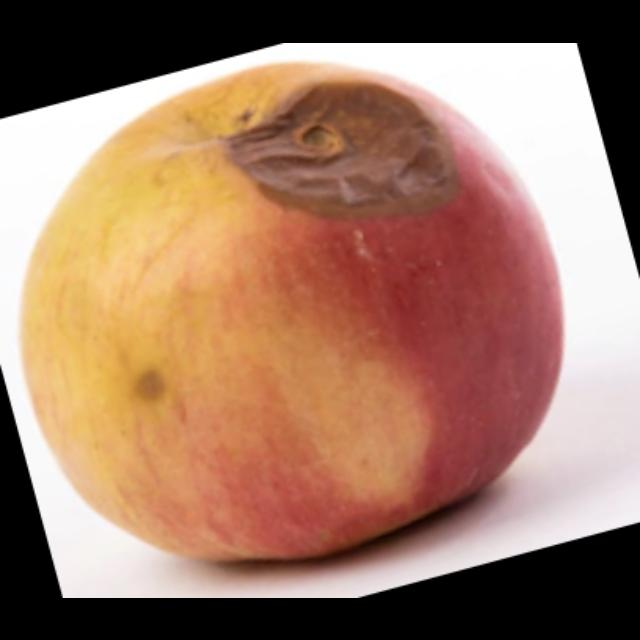Apel Tidak Segar: (17, 53, 570, 564)
